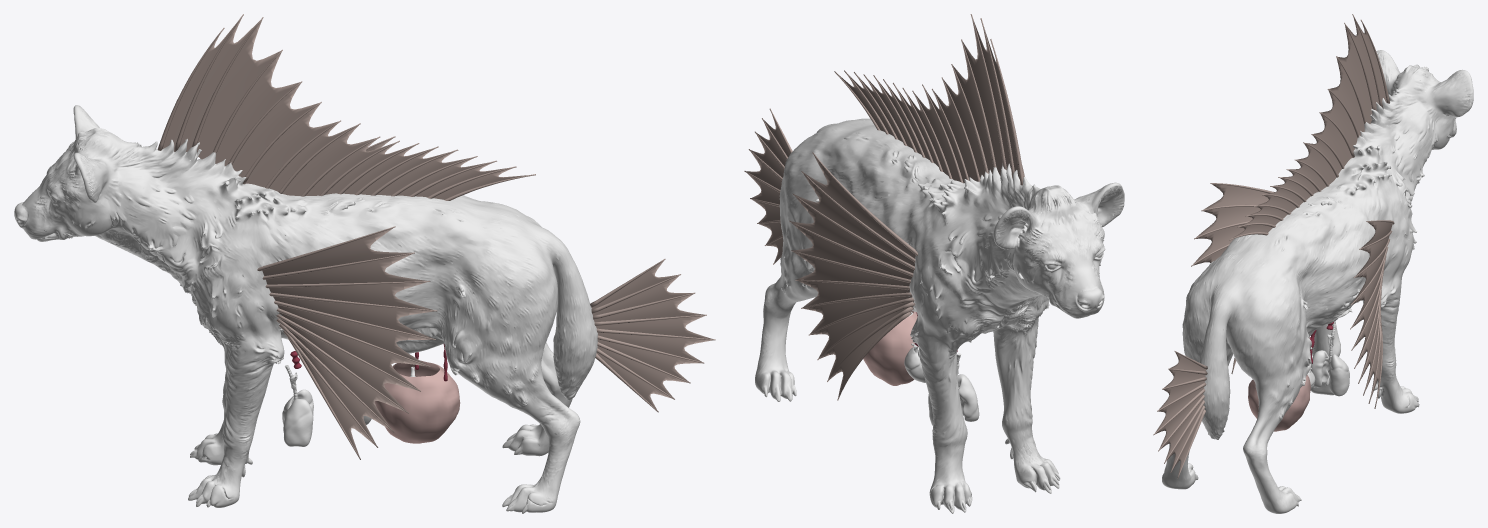
The model's file is chimera_f05.glb.
The picture shows the model from 3 angles, left to right: view 1: azimuth 30°, elevation 25°; view 2: azimuth 150°, elevation 25°; view 3: azimuth 270°, elevation 25°; orthographic projection. The views are drawn at different scales.
Parts seen in each view (by area): view 1: HY01_body.001, HY01_fin_dorsal.001, HY01_fin_pec_L.001, HY01_fin_caudal.001, HY01_sac.001, HY01_org_lungs.001; view 2: HY01_body.001, HY01_fin_pec_R.001, HY01_fin_dorsal.001, HY01_fin_caudal.001, HY01_sac.001, HY01_org_lungs.001, HY01_org_heart.001; view 3: HY01_body.001, HY01_fin_dorsal.001, HY01_fin_caudal.001, HY01_fin_pec_R.001, HY01_fin_pec_L.001, HY01_org_lungs.001, HY01_sac.001.
Part boxes in pixels (x1,y1,x2,y2): HY01_body.001: (14,105,597,513); HY01_fin_dorsal.001: (157,14,535,200); HY01_fin_pec_L.001: (257,226,437,459); HY01_fin_caudal.001: (590,259,715,412); HY01_sac.001: (374,360,460,443); HY01_org_lungs.001: (282,365,313,446); HY01_body.001: (755,118,1124,513); HY01_fin_pec_R.001: (789,152,917,400); HY01_fin_dorsal.001: (834,14,1023,185); HY01_fin_caudal.001: (744,108,792,264); HY01_sac.001: (863,310,917,385); HY01_org_lungs.001: (928,353,979,425); HY01_org_heart.001: (904,343,925,382); HY01_body.001: (1162,50,1473,513); HY01_fin_dorsal.001: (1229,14,1389,240); HY01_fin_caudal.001: (1153,351,1207,478); HY01_fin_pec_R.001: (1350,220,1394,408); HY01_fin_pec_L.001: (1191,183,1274,373); HY01_org_lungs.001: (1311,324,1349,396); HY01_sac.001: (1248,375,1310,431).
Size of the model in its own units: 1.49 by 1.26 by 0.9259.
